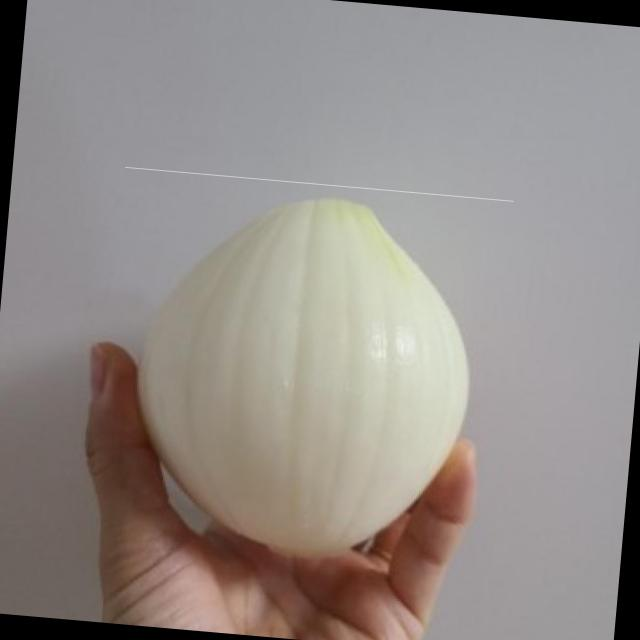Onion: (91, 166, 514, 578)
